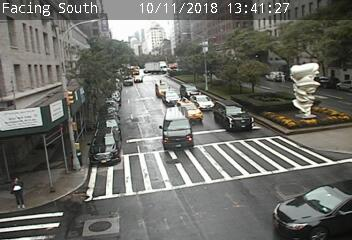car: (162, 107, 193, 151), (214, 100, 254, 132), (89, 128, 120, 165), (176, 100, 203, 123), (189, 95, 214, 111), (180, 83, 201, 100), (162, 91, 183, 106), (155, 82, 171, 98)
